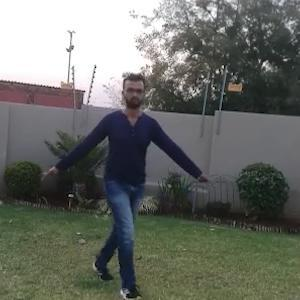land: (44, 71, 204, 288)
